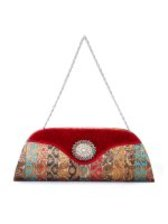bag: (12, 33, 157, 184)
